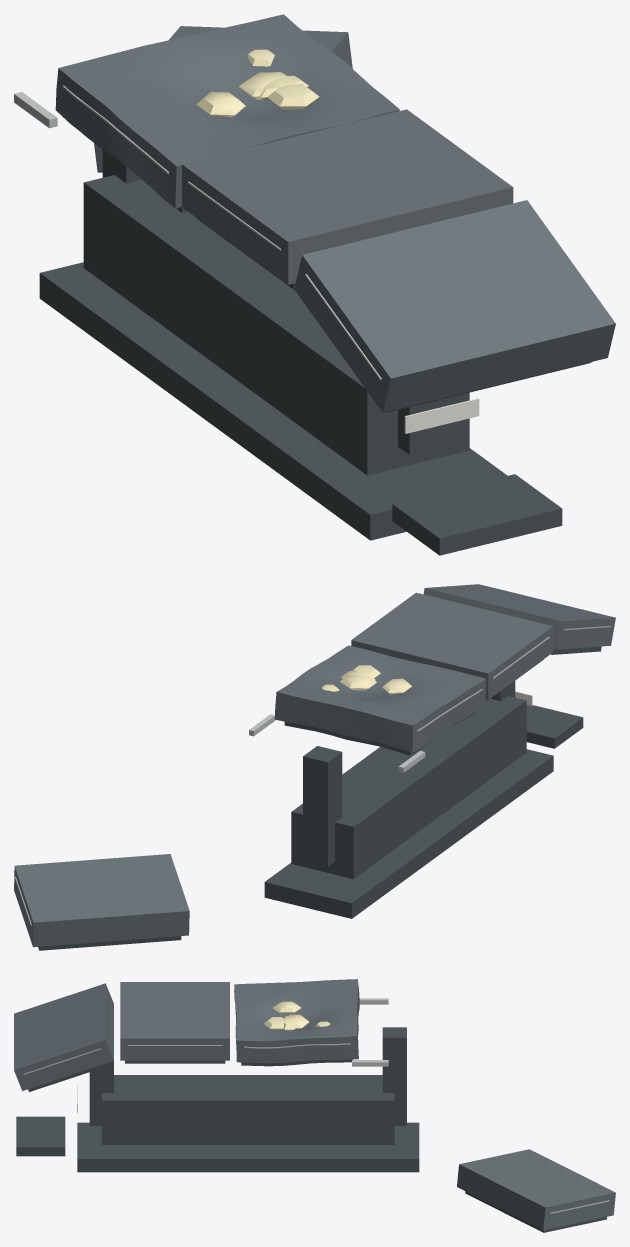
File: chiro_table_broken.fbx
3 renders of one model, top to bottom at view 1: azimuth 30°, elevation 25°; view 2: azimuth 150°, elevation 25°; view 3: azimuth 270°, elevation 25°, orthographic. The views are drawn at different scales.
Parts seen in each view (by area): view 1: chiro_table_broken, chiro_table_broken_debris; view 2: chiro_table_broken, chiro_table_broken_debris; view 3: chiro_table_broken, chiro_table_broken_debris.
Part boxes in pixels (bbox=[...]): chiro_table_broken: bbox=[14, 14, 615, 555]; chiro_table_broken_debris: bbox=[94, 26, 352, 172]; chiro_table_broken: bbox=[249, 584, 615, 918]; chiro_table_broken_debris: bbox=[14, 854, 189, 950]; chiro_table_broken: bbox=[14, 979, 419, 1172]; chiro_table_broken_debris: bbox=[457, 1149, 615, 1232].
Size of the model in its own units: 120 by 66.68 by 247.
